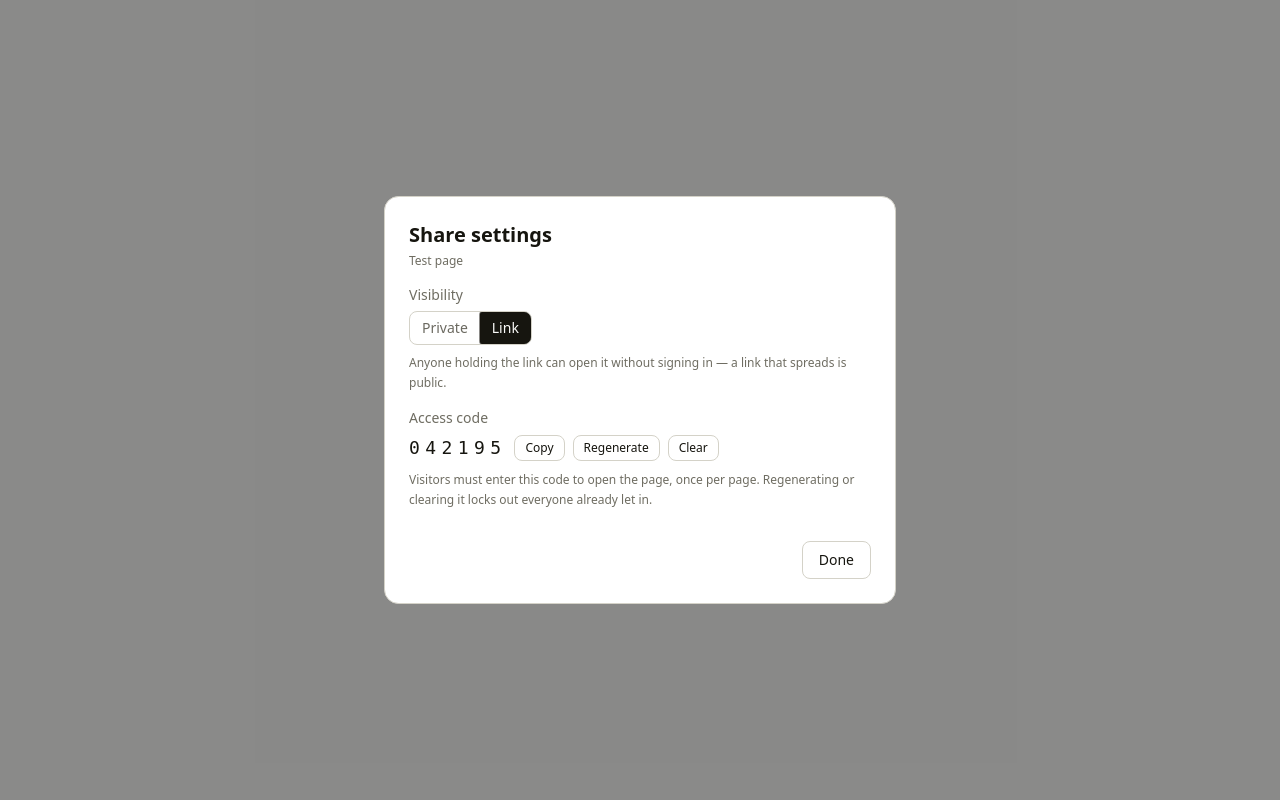
Test: ShareDialog › an existing code can be copied, regenerated and cleared
This screenshot has width=1280, height=800.
Expected: the text with test id "share-code" reads "042195", [409,437,506,458]
Expected: the button "Regenerate" is shown, [572,435,660,461]
Step 1. Click the button "Copy" → (539, 448), box [514,435,564,461]
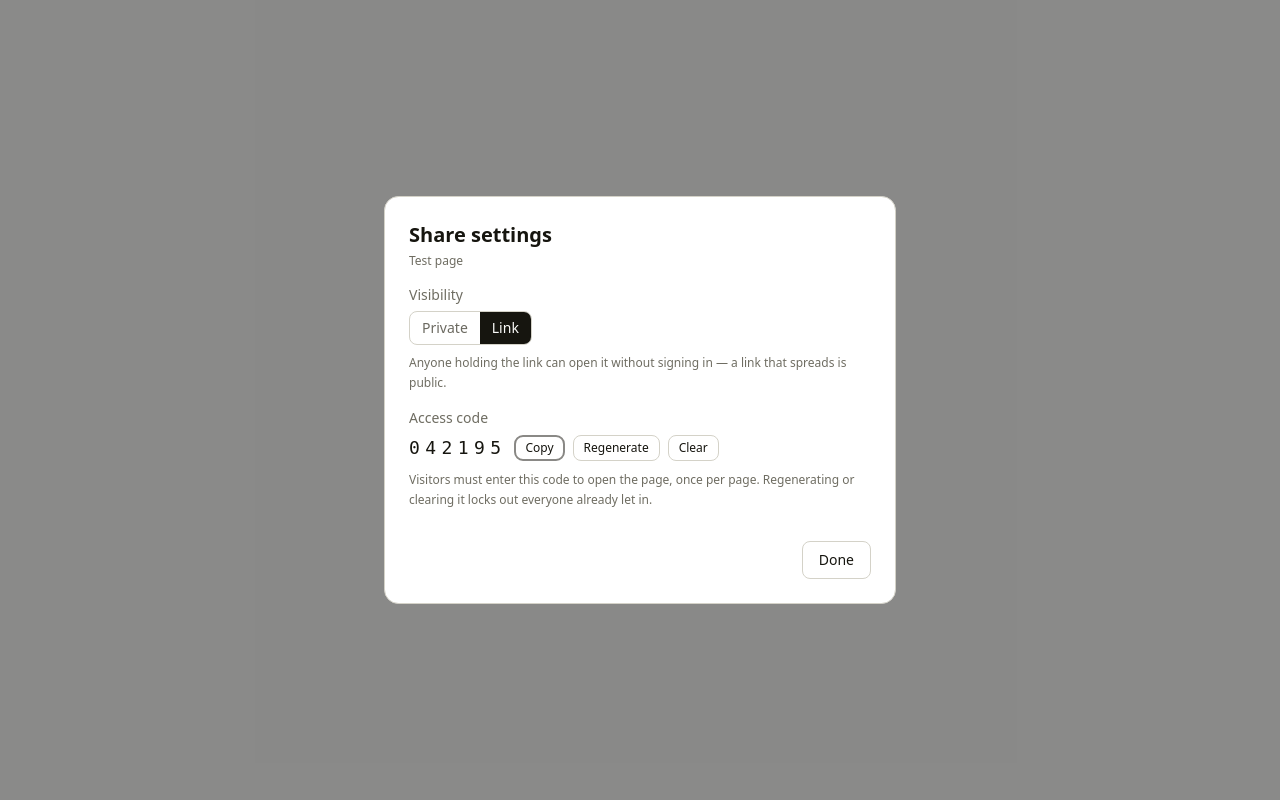
Step 2. Click the button "Clear" → (693, 448), box [668,435,719,461]
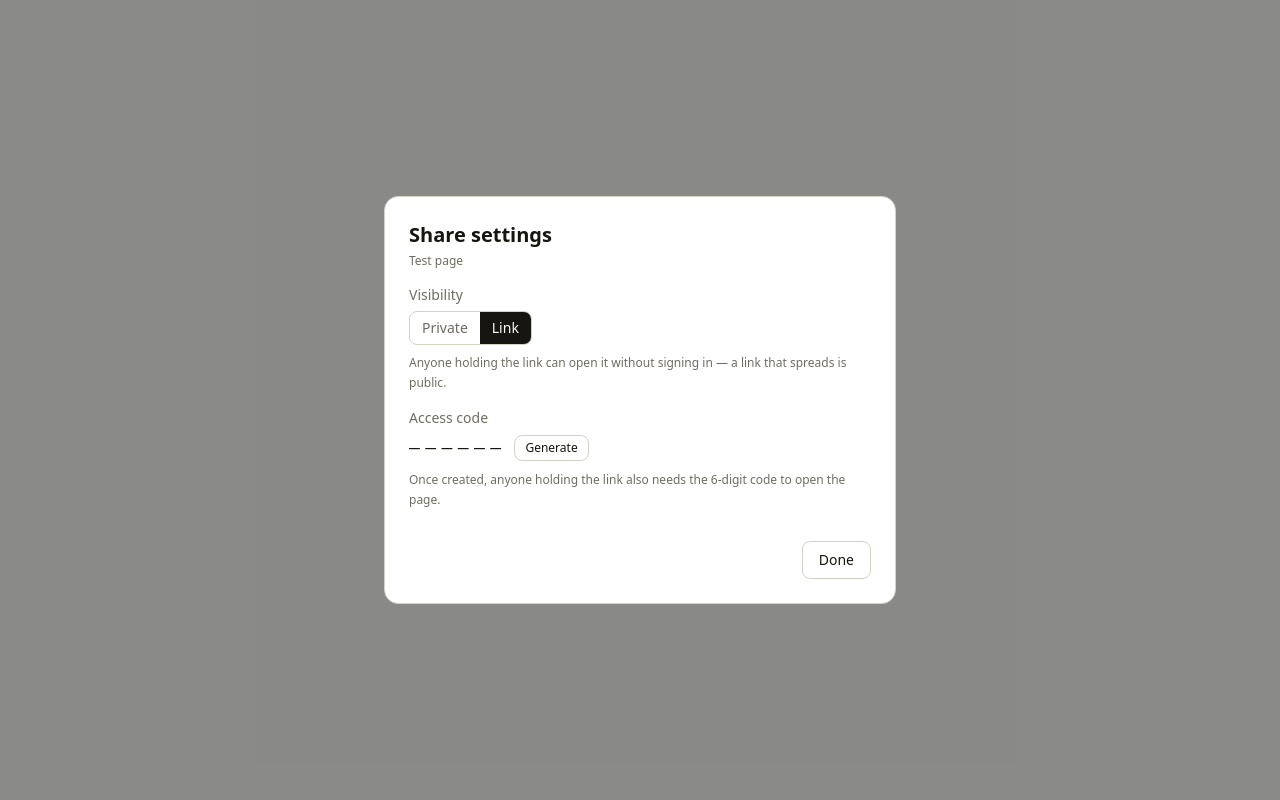
Expected: the text with test id "share-code" reads "——————", [409,437,506,458]
